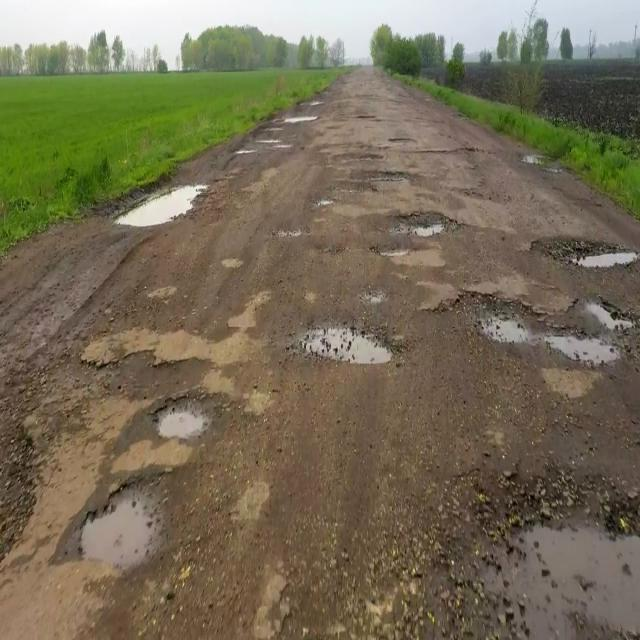Pothole: (448, 494, 640, 636), (462, 300, 640, 368), (61, 489, 185, 572), (80, 174, 214, 250), (80, 172, 218, 238), (0, 362, 64, 467), (272, 326, 400, 376), (541, 231, 635, 285), (233, 123, 314, 176), (358, 207, 462, 244), (132, 408, 220, 450), (257, 94, 324, 137), (487, 138, 562, 168)
